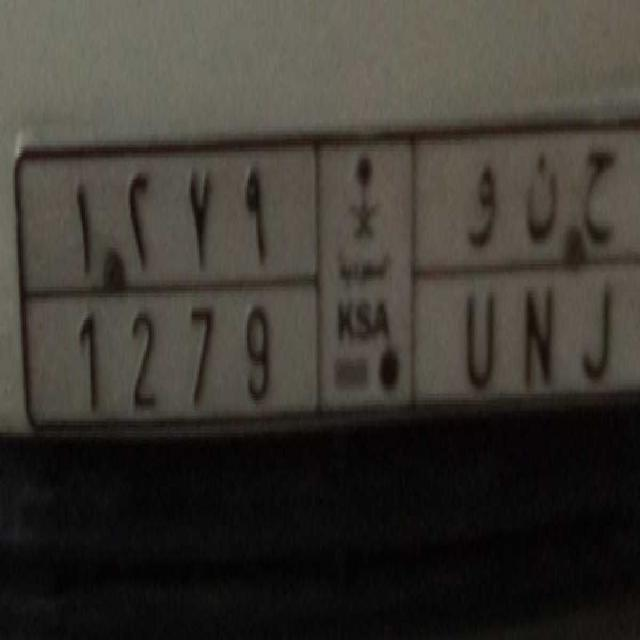license_plate: (46, 272, 634, 442)
